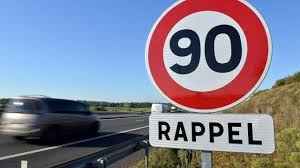Speed_limit_90km: (146, 1, 273, 113)
